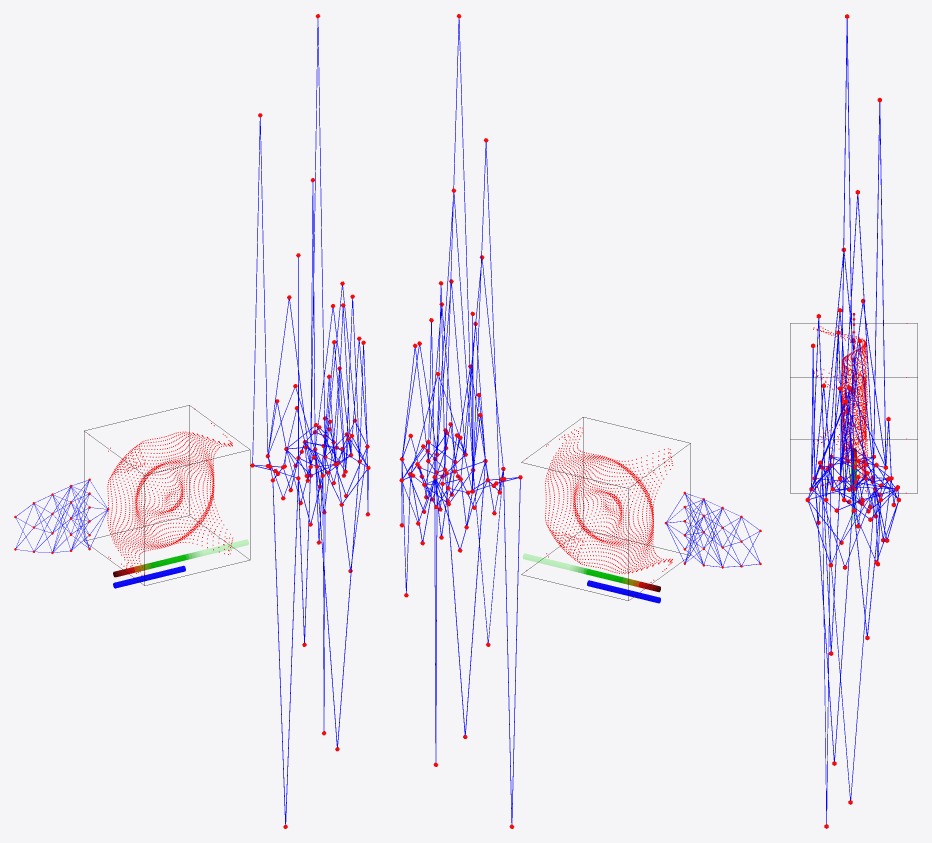
File: ai_sin.glb
3 renders of one model, left to right at view 1: azimuth 30°, elevation 25°; view 2: azimuth 150°, elevation 25°; view 3: azimuth 270°, elevation 25°, orthographic. The views are drawn at different scales.
Size of the model in its own units: 6.73 by 14.45 by 2.01.
